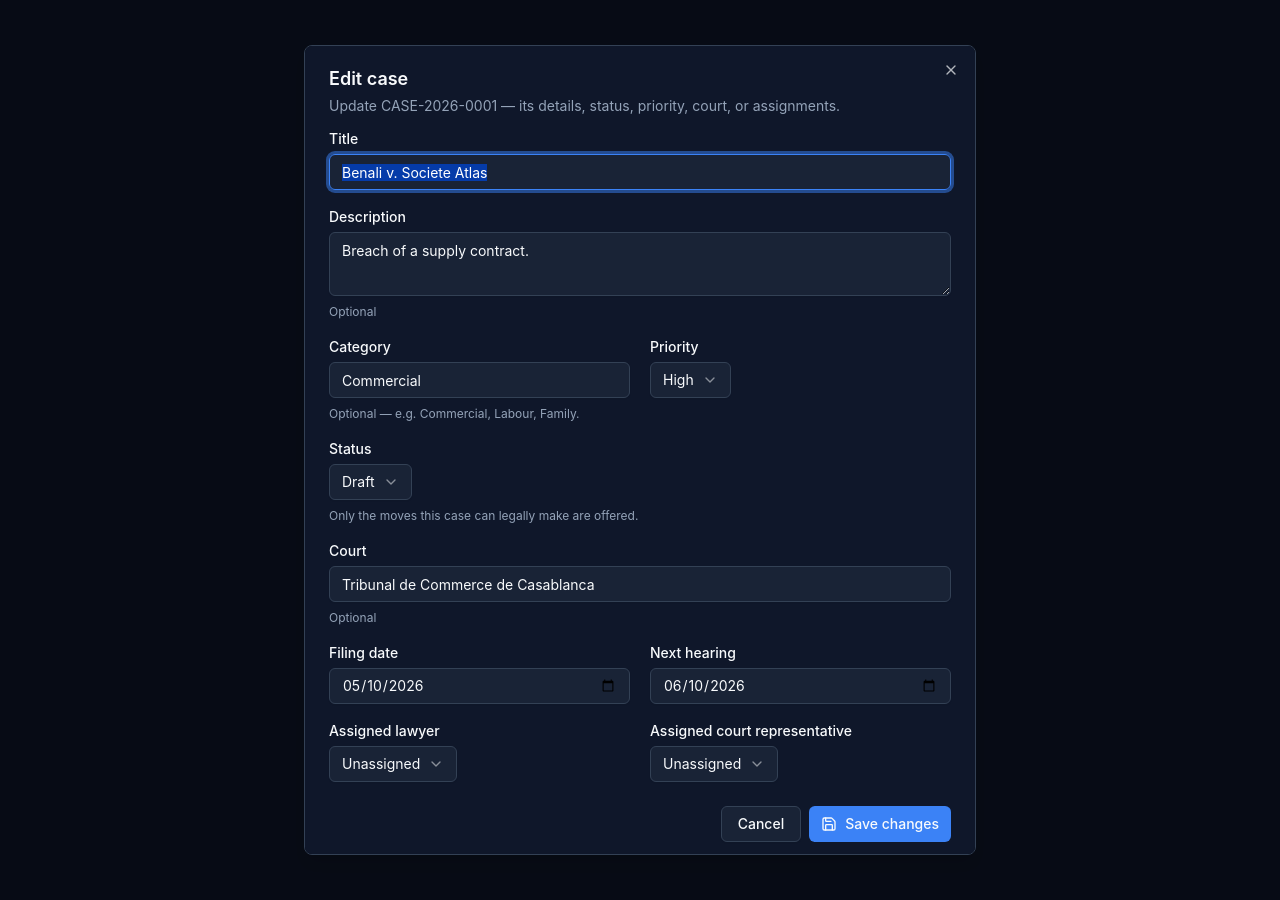
Scenario: EditCaseDialog › offers only the transitions the case can legally make
expect the field labelled "Title" holds "Benali v. Societe Atlas": met, box [329,154,951,190]
Click the dropdown named "Status" at (370, 482), box [329,464,412,500]
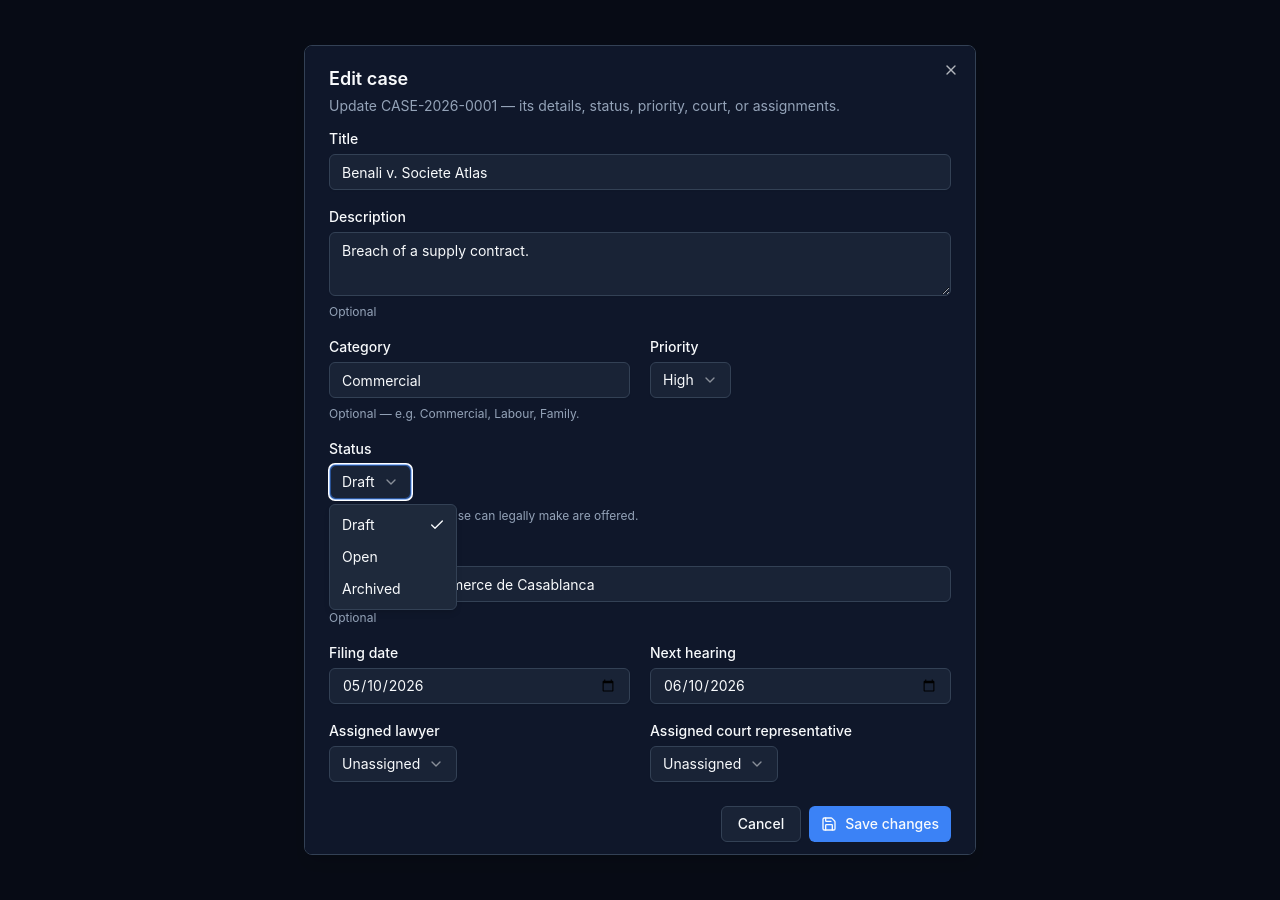
expect the option "Draft" is shown: met, box [342,516,445,533]
expect the option "Open" is shown: met, box [342,548,378,565]
